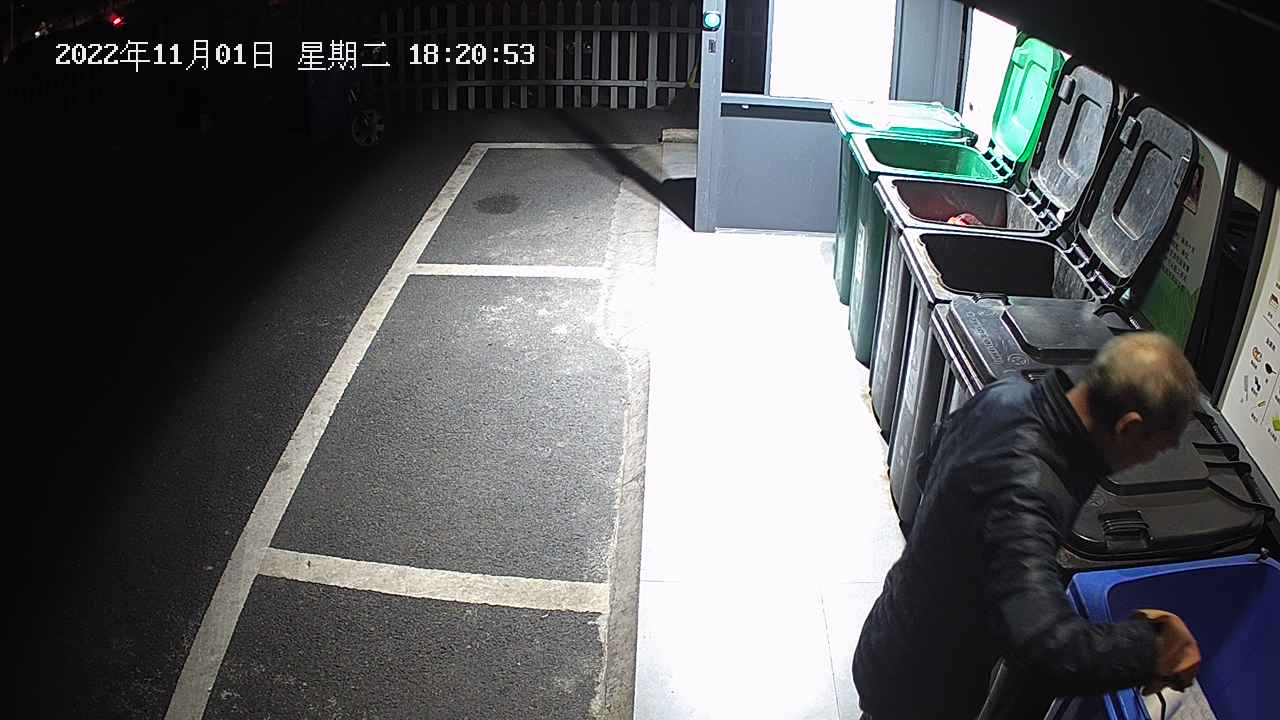person: (850, 330, 1202, 720)
